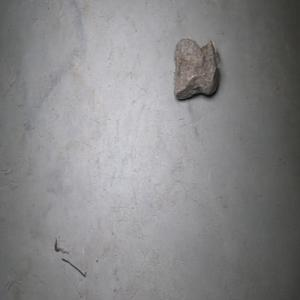Rock: (173, 38, 220, 100)
